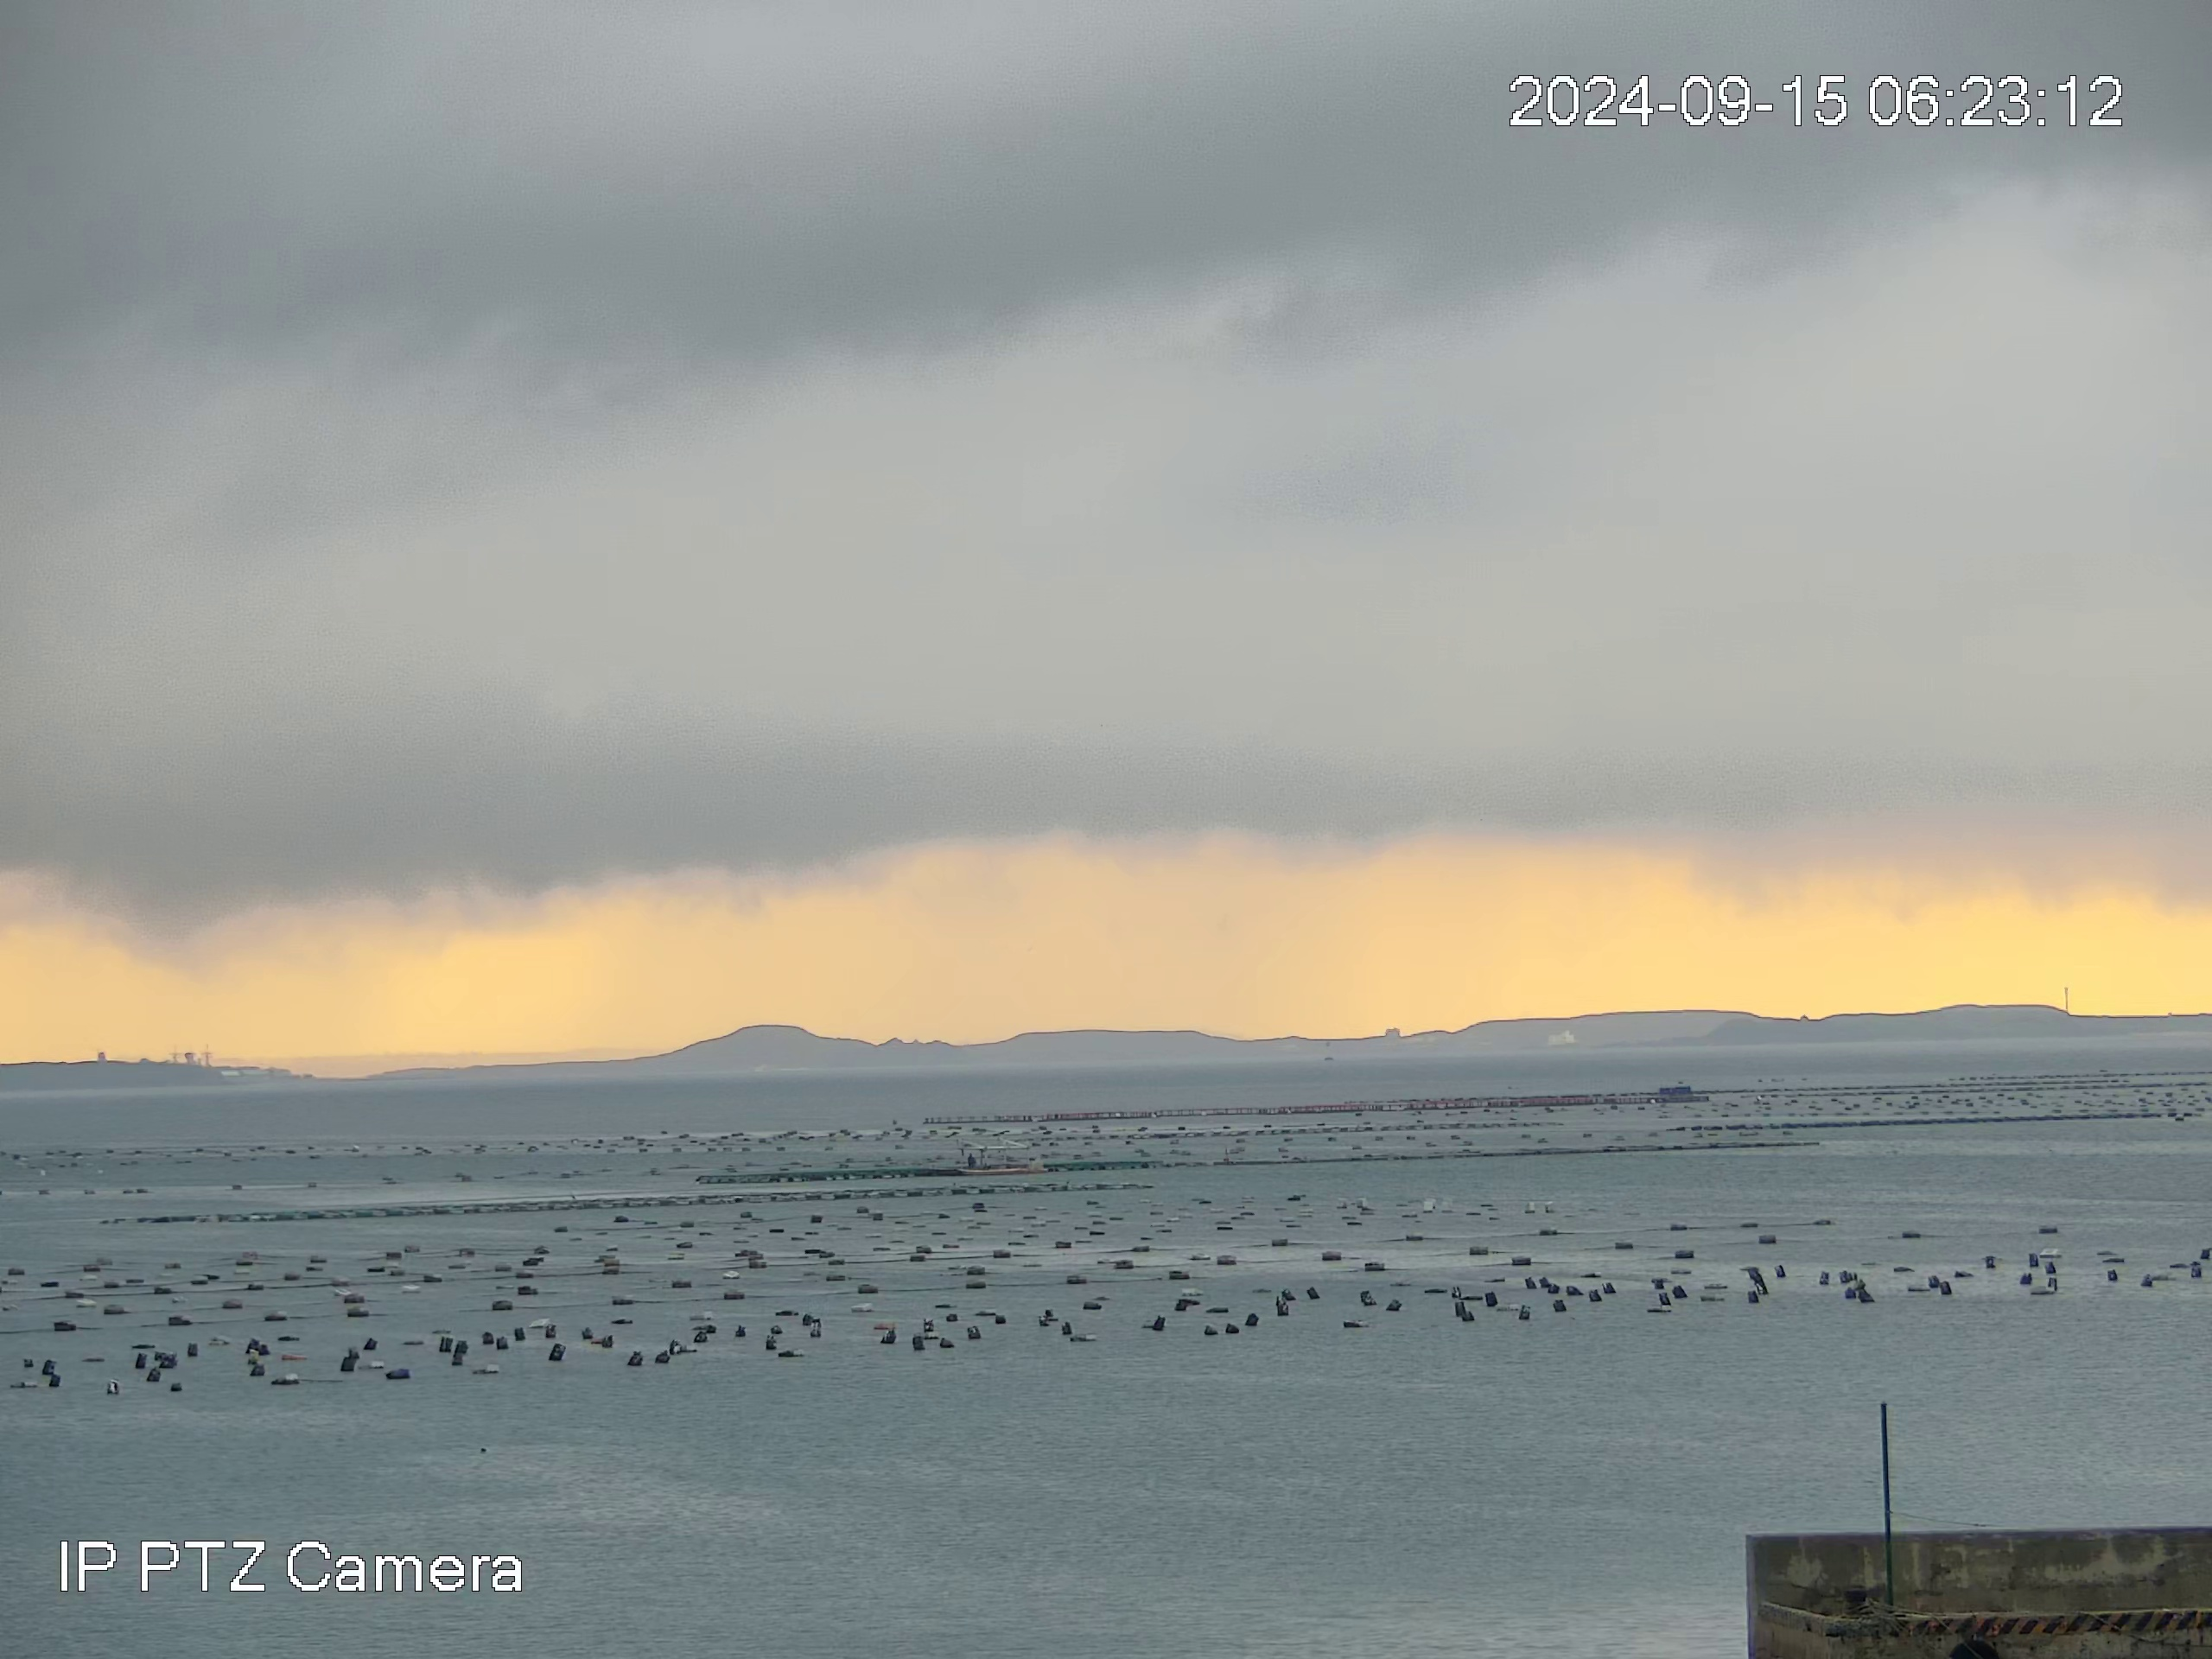boat: (960, 1139, 1050, 1174)
